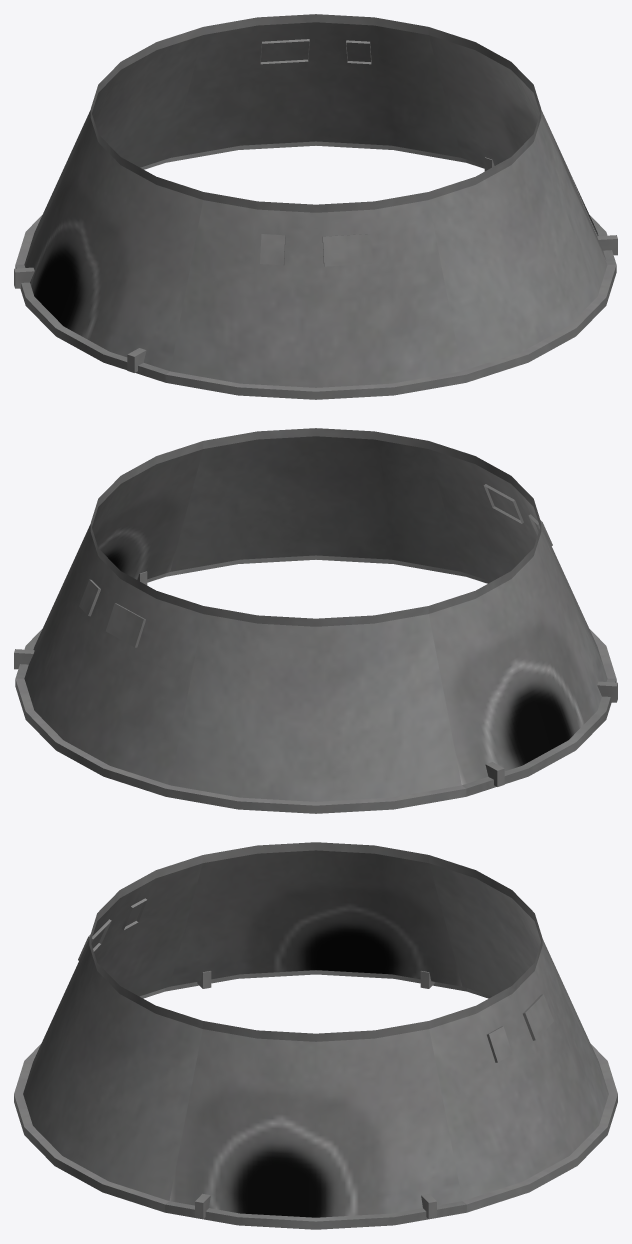
File: big adapter.obj
3 views of the same model, one above another, from view 1: azimuth 30°, elevation 25°; view 2: azimuth 150°, elevation 25°; view 3: azimuth 270°, elevation 25° (orthographic).
Parts seen in each view (by area): view 1: 1; view 2: 1; view 3: 1.
Part boxes in pixels (x1,y1,x2,y2): 1: (14,14,617,399); 1: (14,428,617,813); 1: (14,842,617,1229).
Size of the model in its own units: 2.5 by 0.75 by 2.5.
